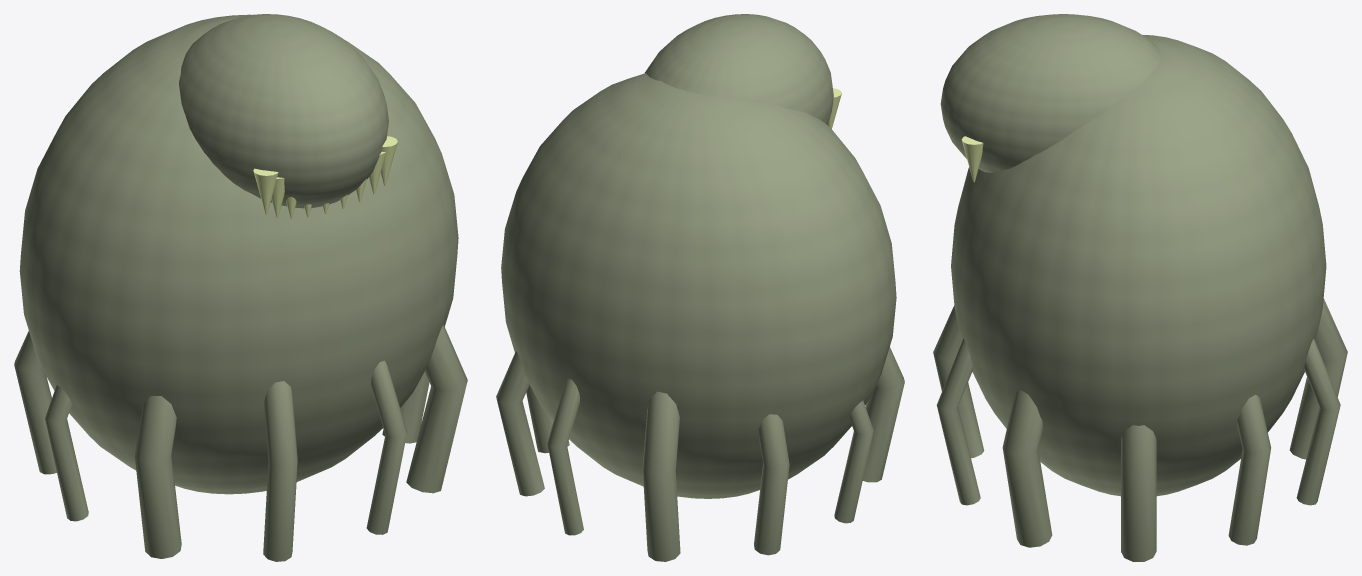
The model's file is MN_bacteria.fbx.
The picture shows the model from 3 angles, left to right: view 1: azimuth 30°, elevation 25°; view 2: azimuth 150°, elevation 25°; view 3: azimuth 270°, elevation 25°; orthographic projection. The views are drawn at different scales.
Visible parts, largest first — view 1: MN_bacteria; view 2: MN_bacteria; view 3: MN_bacteria.
Part boxes in pixels (x1,y1,x2,y2): MN_bacteria: (14, 14, 467, 561); MN_bacteria: (496, 14, 904, 561); MN_bacteria: (933, 14, 1347, 561).
Bounding box in the file's own units: 2.43 × 2.82 × 2.32.
